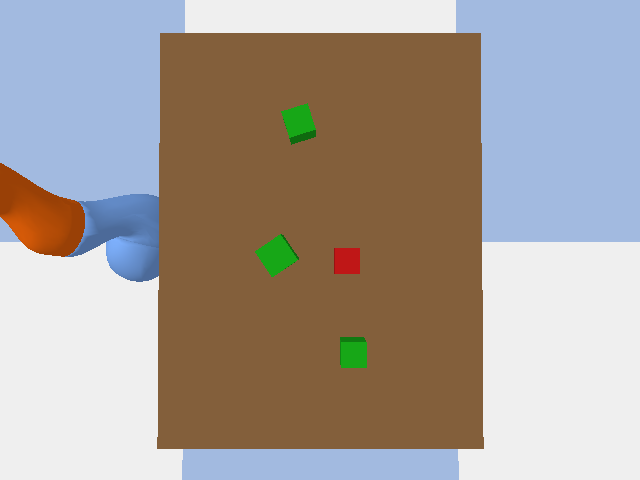green_obj: (255, 234, 298, 276), (281, 103, 315, 144), (340, 337, 366, 367)
red_obj: (334, 248, 359, 273)
